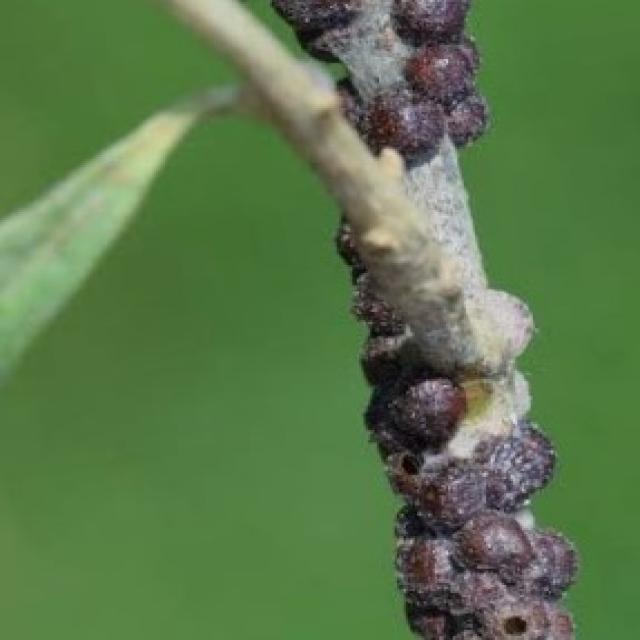Black Scale: (337, 222, 578, 638), (348, 0, 486, 167), (270, 0, 359, 61)
